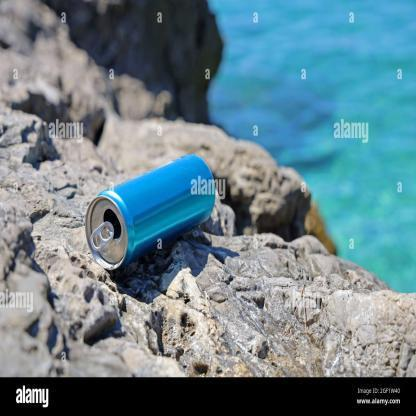can: (84, 153, 216, 271)
